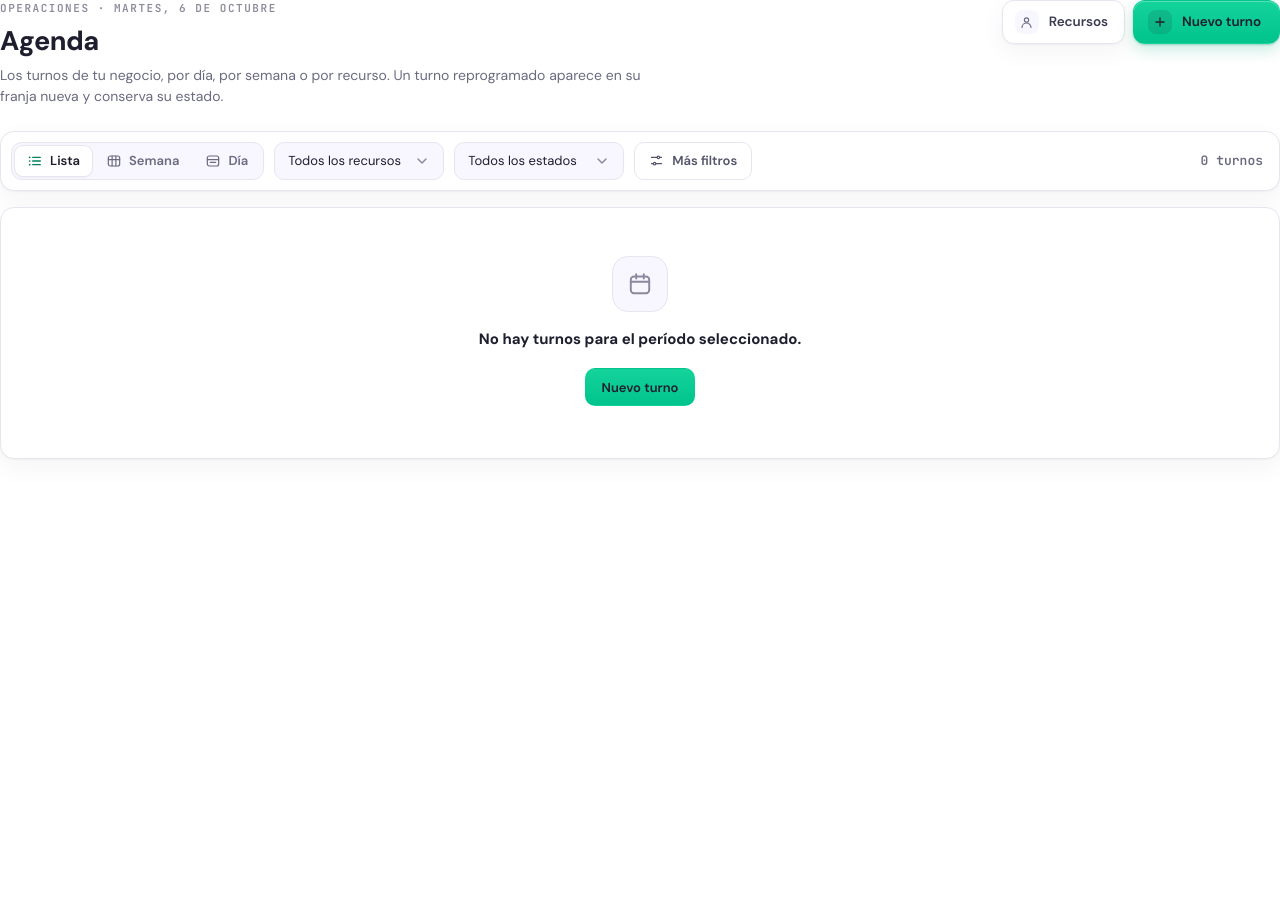
Test case: Agenda · vistas › la grilla vacía se dibuja igual, con el aviso arriba
Click the button "Semana" at (143, 161), box x1=94 y1=146 x2=191 y2=176
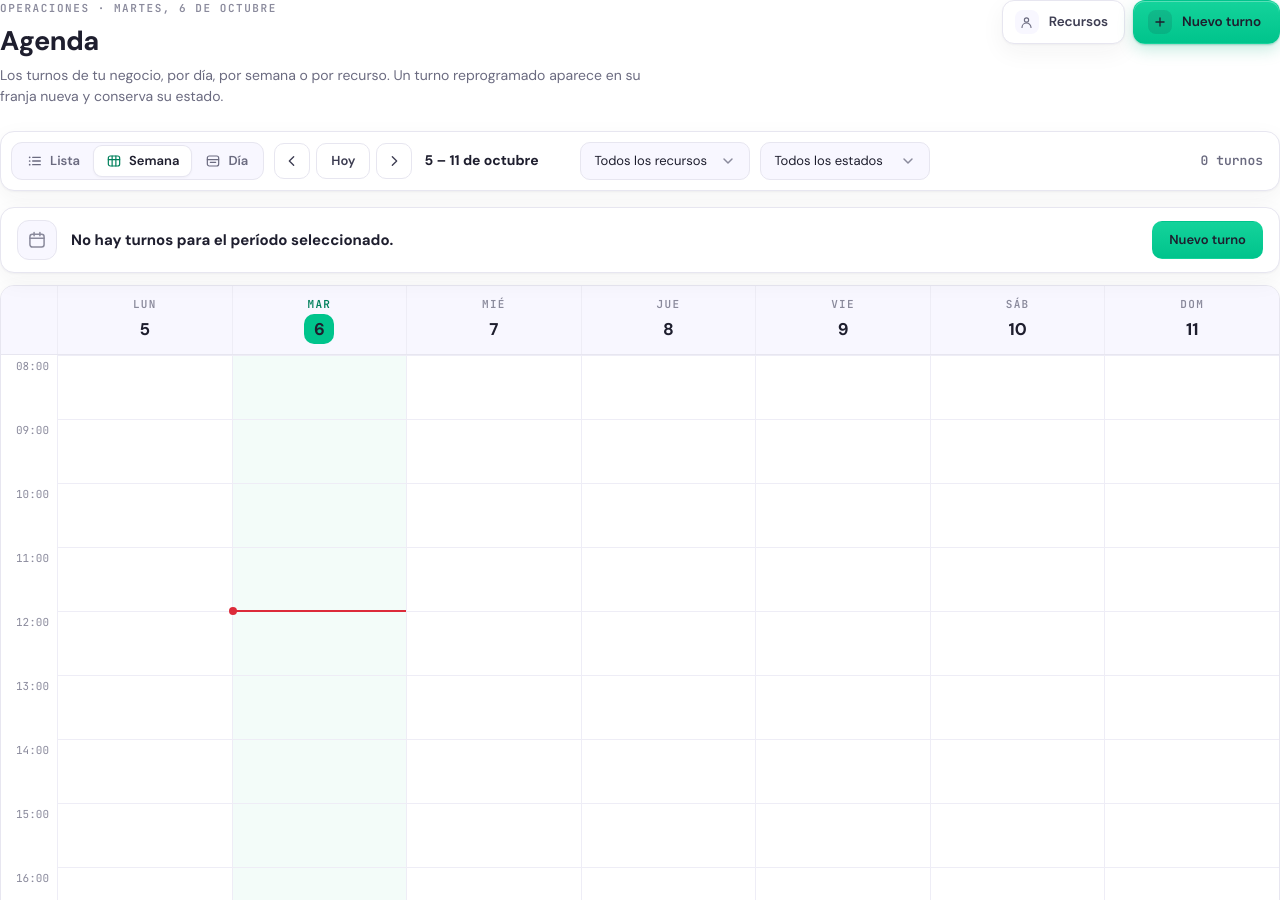
Expected: the text "No hay turnos para el período seleccionado." is shown, x1=71 y1=230 x2=393 y2=250
Result: the number of elements named "de octubre" is 7
